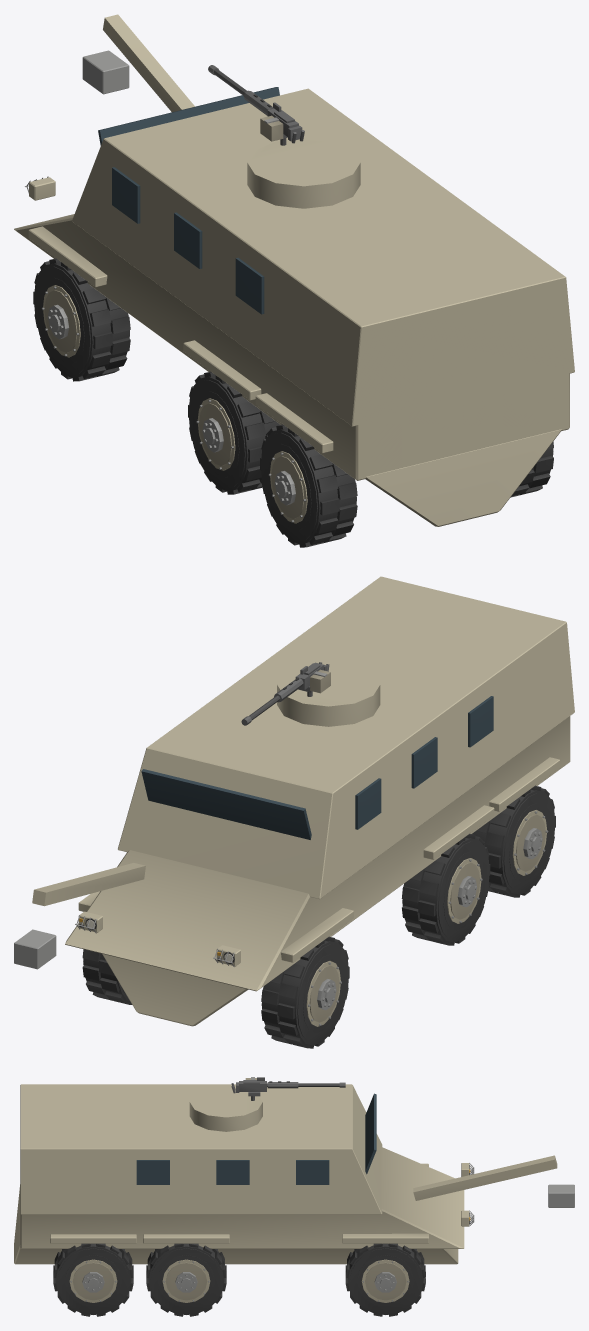
Rendered from usa_mrap_buff.glb.
3 renders of one model, top to bottom at view 1: azimuth 30°, elevation 25°; view 2: azimuth 150°, elevation 25°; view 3: azimuth 270°, elevation 25°, orthographic. The views are drawn at different scales.
Parts seen in each view (by area): view 1: body, wheel_0, wheel_4, wheel_2, turret, barrel, wheel_5; view 2: body, wheel_0, wheel_2, wheel_4, turret, wheel_1, barrel; view 3: body, wheel_5, wheel_3, wheel_1, turret, barrel.
Boxes of the visible parts, left/top/right/bottom form: body: left=14, top=14, right=574, bottom=526; wheel_0: left=33, top=258, right=130, bottom=381; wheel_4: left=260, top=424, right=357, bottom=547; wheel_2: left=188, top=371, right=280, bottom=494; turret: left=247, top=138, right=360, bottom=208; barrel: left=208, top=65, right=304, bottom=145; wheel_5: left=510, top=441, right=553, bottom=497; body: left=14, top=576, right=574, bottom=1026; wheel_0: left=261, top=936, right=349, bottom=1048; wheel_2: left=401, top=833, right=490, bottom=945; wheel_4: left=472, top=785, right=555, bottom=897; turret: left=277, top=663, right=380, bottom=726; wheel_1: left=82, top=949, right=132, bottom=1004; barrel: left=241, top=662, right=330, bottom=725; body: left=14, top=1084, right=574, bottom=1264; wheel_5: left=53, top=1243, right=133, bottom=1316; wheel_3: left=146, top=1243, right=226, bottom=1316; wheel_1: left=345, top=1243, right=425, bottom=1316; turret: left=189, top=1086, right=262, bottom=1131; barrel: left=231, top=1077, right=345, bottom=1100.
Size of the model in its own units: 2.82 by 3.37 by 8.45.
